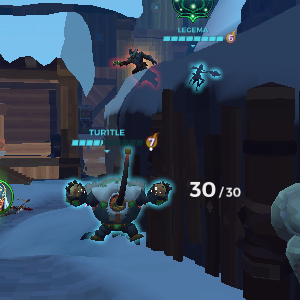model: (108, 43, 163, 95)
